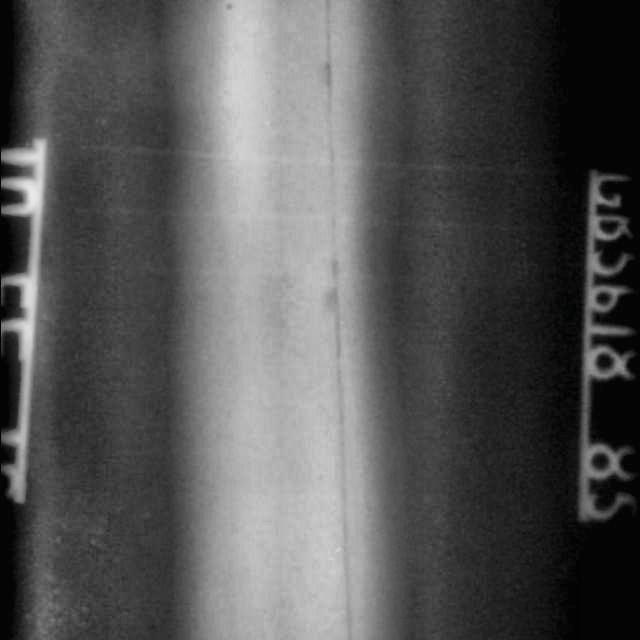LoP-LoF: (299, 0, 373, 640)
